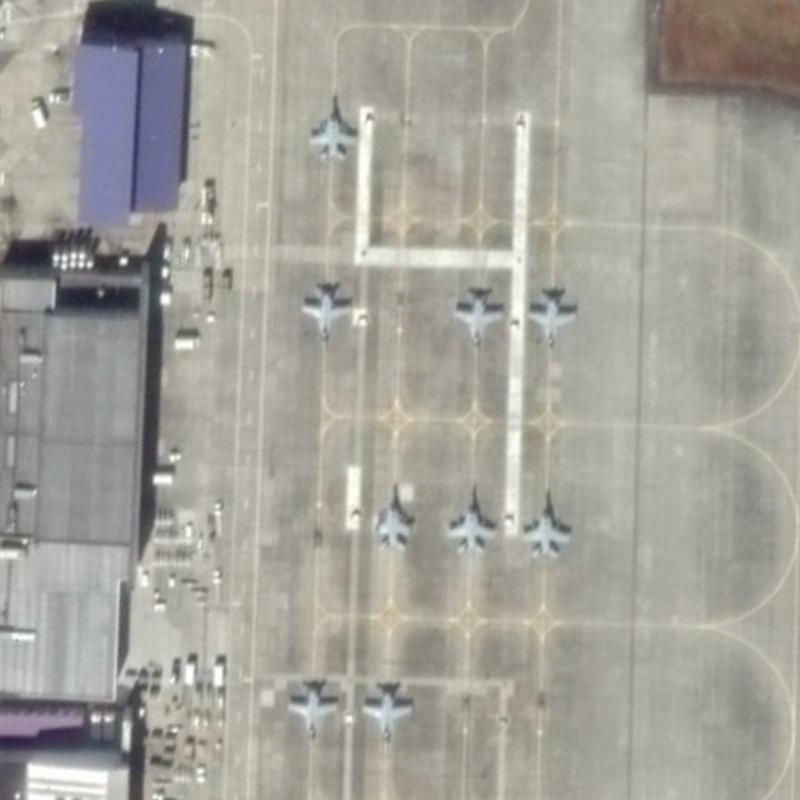A16: (356, 676, 415, 760), (515, 483, 575, 565), (302, 88, 365, 165), (445, 282, 504, 361), (524, 278, 579, 362), (284, 674, 341, 755), (298, 278, 354, 359), (442, 482, 497, 557), (365, 478, 414, 554)
